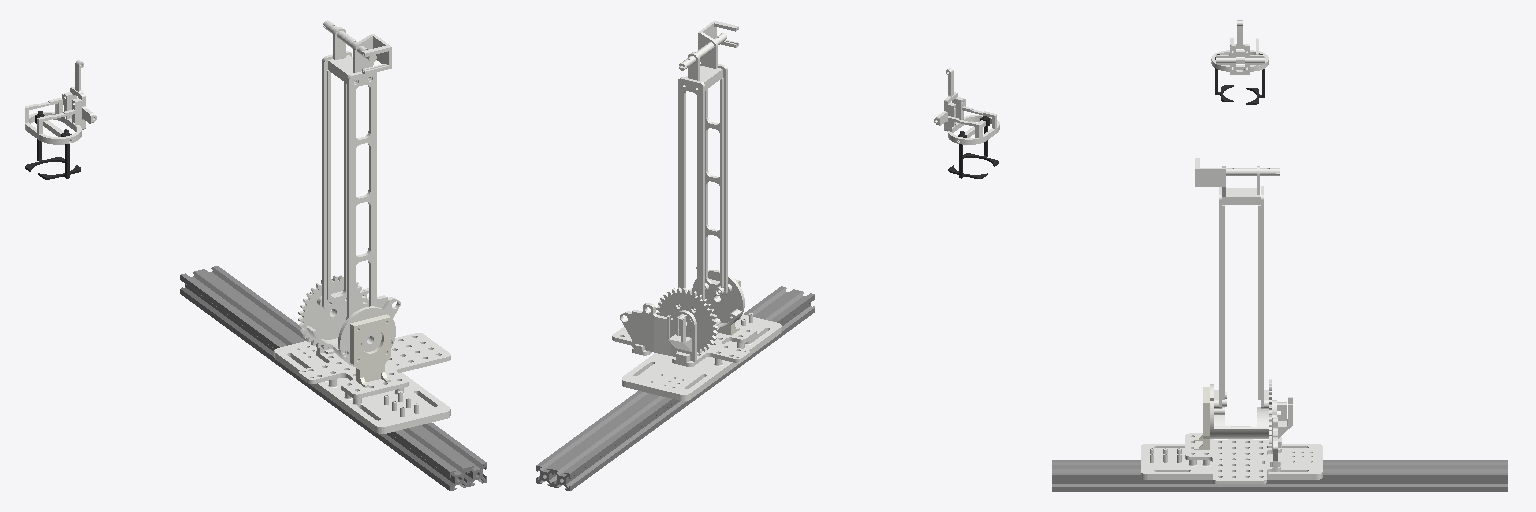
The robot description file, URDF, robot "arm":
<?xml version="1.0" ?>
<!-- =================================================================================== -->
<!-- |    This document was autogenerated by xacro from arm.xacro                      | -->
<!-- |    EDITING THIS FILE BY HAND IS NOT RECOMMENDED                                 | -->
<!-- =================================================================================== -->
<robot name="arm">
  <material name="silver_default">
    <color rgba="0.700 0.700 0.700 1.000"/>
  </material>
  <material name="abs_white">
    <color rgba="0.9647058823529412 0.9647058823529412 0.9529411764705882 1.0"/>
  </material>
  <material name="steel_satin">
    <color rgba="0.6274509803921569 0.6274509803921569 0.6274509803921569 1.0"/>
  </material>
  <material name="acetal_resin_white">
    <color rgba="0.9725490196078431 0.9686274509803922 0.9294117647058824 1.0"/>
  </material>
  <material name="nylon_12_with_formlabs_fuse_1_3d_printer">
    <color rgba="0.24705882352941178 0.24705882352941178 0.24705882352941178 1.0"/>
  </material>
  <transmission name="Slider 2_tran">
    <type>transmission_interface/SimpleTransmission</type>
    <joint name="Slider 2">
      <hardwareInterface>hardware_interface/EffortJointInterface</hardwareInterface>
    </joint>
    <actuator name="Slider 2_actr">
      <hardwareInterface>hardware_interface/EffortJointInterface</hardwareInterface>
      <mechanicalReduction>1</mechanicalReduction>
    </actuator>
  </transmission>
  <transmission name="Revolute 5_tran">
    <type>transmission_interface/SimpleTransmission</type>
    <joint name="Revolute 5">
      <hardwareInterface>hardware_interface/EffortJointInterface</hardwareInterface>
    </joint>
    <actuator name="Revolute 5_actr">
      <hardwareInterface>hardware_interface/EffortJointInterface</hardwareInterface>
      <mechanicalReduction>1</mechanicalReduction>
    </actuator>
  </transmission>
  <transmission name="Revolute 12_tran">
    <type>transmission_interface/SimpleTransmission</type>
    <joint name="Revolute 12">
      <hardwareInterface>hardware_interface/EffortJointInterface</hardwareInterface>
    </joint>
    <actuator name="Revolute 12_actr">
      <hardwareInterface>hardware_interface/EffortJointInterface</hardwareInterface>
      <mechanicalReduction>1</mechanicalReduction>
    </actuator>
  </transmission>
  <transmission name="Revolute 13_tran">
    <type>transmission_interface/SimpleTransmission</type>
    <joint name="Revolute 13">
      <hardwareInterface>hardware_interface/EffortJointInterface</hardwareInterface>
    </joint>
    <actuator name="Revolute 13_actr">
      <hardwareInterface>hardware_interface/EffortJointInterface</hardwareInterface>
      <mechanicalReduction>1</mechanicalReduction>
    </actuator>
  </transmission>
  <transmission name="Slider 18_tran">
    <type>transmission_interface/SimpleTransmission</type>
    <joint name="Slider 18">
      <hardwareInterface>hardware_interface/EffortJointInterface</hardwareInterface>
    </joint>
    <actuator name="Slider 18_actr">
      <hardwareInterface>hardware_interface/EffortJointInterface</hardwareInterface>
      <mechanicalReduction>1</mechanicalReduction>
    </actuator>
  </transmission>
  <transmission name="Slider 19_tran">
    <type>transmission_interface/SimpleTransmission</type>
    <joint name="Slider 19">
      <hardwareInterface>hardware_interface/EffortJointInterface</hardwareInterface>
    </joint>
    <actuator name="Slider 19_actr">
      <hardwareInterface>hardware_interface/EffortJointInterface</hardwareInterface>
      <mechanicalReduction>1</mechanicalReduction>
    </actuator>
  </transmission>
  <link name="base_link">
    <inertial>
      <origin rpy="0 0 0" xyz="-0.009999999999999948 9.575491847487525e-17 -0.08999999999999994"/>
      <mass value="1.4912097514428566"/>
      <inertia ixx="0.031122" ixy="0.0" ixz="0.0" iyy="0.000259" iyz="0.0" izz="0.031271"/>
    </inertial>
    <visual>
      <origin rpy="0 0 0" xyz="0 0 0"/>
      <geometry>
        <mesh filename="../meshes/base_link.stl" scale="0.001 0.001 0.001"/>
      </geometry>
      <material name="steel_satin"/>
    </visual>
    <collision>
      <origin rpy="0 0 0" xyz="0 0 0"/>
      <geometry>
        <mesh filename="../meshes/base_link.stl" scale="0.001 0.001 0.001"/>
      </geometry>
    </collision>
  </link>
  <link name="glid_platta_1">
    <inertial>
      <origin rpy="0 0 0" xyz="-5.468439568776136e-05 -0.05383161524004917 0.0038176877551246158"/>
      <mass value="0.8546275738182918"/>
      <inertia ixx="0.002722" ixy="-6e-06" ixz="1e-06" iyy="0.000445" iyz="6e-06" izz="0.003156"/>
    </inertial>
    <visual>
      <origin rpy="0 0 0" xyz="0.01 0.0005 0.077"/>
      <geometry>
        <mesh filename="../meshes/glid_platta_1.stl" scale="0.001 0.001 0.001"/>
      </geometry>
      <material name="abs_white"/>
    </visual>
    <collision>
      <origin rpy="0 0 0" xyz="0.01 0.0005 0.077"/>
      <geometry>
        <mesh filename="../meshes/glid_platta_1.stl" scale="0.001 0.001 0.001"/>
      </geometry>
    </collision>
  </link>
  <link name="bas_1">
    <inertial>
      <origin rpy="0 0 0" xyz="0.04705931573620517 0.045268301136539645 0.0022661004887333247"/>
      <mass value="0.30456940392755205"/>
      <inertia ixx="0.000197" ixy="-5.5e-05" ixz="0.0" iyy="0.000386" iyz="-0.0" izz="0.000582"/>
    </inertial>
    <visual>
      <origin rpy="0 0 0" xyz="0.04 0.0955 0.061"/>
      <geometry>
        <mesh filename="../meshes/bas_1.stl" scale="0.001 0.001 0.001"/>
      </geometry>
      <material name="abs_white"/>
    </visual>
    <collision>
      <origin rpy="0 0 0" xyz="0.04 0.0955 0.061"/>
      <geometry>
        <mesh filename="../meshes/bas_1.stl" scale="0.001 0.001 0.001"/>
      </geometry>
    </collision>
  </link>
  <link name="gemensam_vagg_1">
    <inertial>
      <origin rpy="0 0 0" xyz="0.030946920895249638 0.0021147724207146537 0.021010163827367916"/>
      <mass value="0.14972234810656923"/>
      <inertia ixx="2.6e-05" ixy="4e-06" ixz="-2e-06" iyy="0.000104" iyz="-1e-06" izz="8.3e-05"/>
    </inertial>
    <visual>
      <origin rpy="0 0 0" xyz="0.025 0.006 0.0565"/>
      <geometry>
        <mesh filename="../meshes/gemensam_vagg_1.stl" scale="0.001 0.001 0.001"/>
      </geometry>
      <material name="abs_white"/>
    </visual>
    <collision>
      <origin rpy="0 0 0" xyz="0.025 0.006 0.0565"/>
      <geometry>
        <mesh filename="../meshes/gemensam_vagg_1.stl" scale="0.001 0.001 0.001"/>
      </geometry>
    </collision>
  </link>
  <link name="botten_snurr_1">
    <inertial>
      <origin rpy="0 0 0" xyz="0.0015732210889561407 -0.03123421175585632 -0.00431527689408236"/>
      <mass value="0.3353218247510541"/>
      <inertia ixx="0.000386" ixy="2e-06" ixz="6e-06" iyy="0.000177" iyz="-5e-06" izz="0.000373"/>
    </inertial>
    <visual>
      <origin rpy="0 0 0" xyz="0.0175 0.0083 0.016"/>
      <geometry>
        <mesh filename="../meshes/botten_snurr_1.stl" scale="0.001 0.001 0.001"/>
      </geometry>
      <material name="abs_white"/>
    </visual>
    <collision>
      <origin rpy="0 0 0" xyz="0.0175 0.0083 0.016"/>
      <geometry>
        <mesh filename="../meshes/botten_snurr_1.stl" scale="0.001 0.001 0.001"/>
      </geometry>
    </collision>
  </link>
  <link name="kortarm_kopia_Mirror__1">
    <inertial>
      <origin rpy="0 0 0" xyz="0.008999999999998776 -0.002527975348214296 0.12374230942748185"/>
      <mass value="0.14674833087457098"/>
      <inertia ixx="0.000901" ixy="0.0" ixz="-0.0" iyy="0.000919" iyz="-0.0" izz="1.9e-05"/>
    </inertial>
    <visual>
      <origin rpy="0 0 0" xyz="0.0265 0.0173 0.001"/>
      <geometry>
        <mesh filename="../meshes/kortarm_kopia_Mirror__1.stl" scale="0.001 0.001 0.001"/>
      </geometry>
      <material name="abs_white"/>
    </visual>
    <collision>
      <origin rpy="0 0 0" xyz="0.0265 0.0173 0.001"/>
      <geometry>
        <mesh filename="../meshes/kortarm_kopia_Mirror__1.stl" scale="0.001 0.001 0.001"/>
      </geometry>
    </collision>
  </link>
  <link name="kortarm_kopia_1">
    <inertial>
      <origin rpy="0 0 0" xyz="-0.008999999999983271 0.0025846658949611606 0.12043864331762873"/>
      <mass value="0.15923511176845098"/>
      <inertia ixx="0.000967" ixy="-0.0" ixz="0.0" iyy="0.000986" iyz="2e-06" izz="2e-05"/>
    </inertial>
    <visual>
      <origin rpy="0 0 0" xyz="0.0085 0.0673 0.001"/>
      <geometry>
        <mesh filename="../meshes/kortarm_kopia_1.stl" scale="0.001 0.001 0.001"/>
      </geometry>
      <material name="abs_white"/>
    </visual>
    <collision>
      <origin rpy="0 0 0" xyz="0.0085 0.0673 0.001"/>
      <geometry>
        <mesh filename="../meshes/kortarm_kopia_1.stl" scale="0.001 0.001 0.001"/>
      </geometry>
    </collision>
  </link>
  <link name="snurr_hallare_stepper_sida_1">
    <inertial>
      <origin rpy="0 0 0" xyz="-0.00752161763889087 -0.0010441466152069923 0.030069945529443327"/>
      <mass value="0.10064962572181504"/>
      <inertia ixx="3.3e-05" ixy="0.0" ixz="-0.0" iyy="4.6e-05" iyz="-0.0" izz="1.4e-05"/>
    </inertial>
    <visual>
      <origin rpy="0 0 0" xyz="0.01 0.08 0.0565"/>
      <geometry>
        <mesh filename="../meshes/snurr_hallare_stepper_sida_1.stl" scale="0.001 0.001 0.001"/>
      </geometry>
      <material name="acetal_resin_white"/>
    </visual>
    <collision>
      <origin rpy="0 0 0" xyz="0.01 0.08 0.0565"/>
      <geometry>
        <mesh filename="../meshes/snurr_hallare_stepper_sida_1.stl" scale="0.001 0.001 0.001"/>
      </geometry>
    </collision>
  </link>
  <link name="led_1">
    <inertial>
      <origin rpy="0 0 0" xyz="0.01030928189216322 0.011669647371074766 0.010617976474143143"/>
      <mass value="0.12568698050315202"/>
      <inertia ixx="7.4e-05" ixy="8e-06" ixz="-6e-06" iyy="3.2e-05" iyz="2.1e-05" izz="5.7e-05"/>
    </inertial>
    <visual>
      <origin rpy="0 0 0" xyz="0.025 0.0633 -0.244"/>
      <geometry>
        <mesh filename="../meshes/led_1.stl" scale="0.001 0.001 0.001"/>
      </geometry>
      <material name="abs_white"/>
    </visual>
    <collision>
      <origin rpy="0 0 0" xyz="0.025 0.0633 -0.244"/>
      <geometry>
        <mesh filename="../meshes/led_1.stl" scale="0.001 0.001 0.001"/>
      </geometry>
    </collision>
  </link>
  <link name="mount_1">
    <inertial>
      <origin rpy="0 0 0" xyz="-0.0015281452941265372 -0.027111778475479423 0.0047367407334450995"/>
      <mass value="0.03244923596791342"/>
      <inertia ixx="1.2e-05" ixy="0.0" ixz="-0.0" iyy="7e-06" iyz="-0.0" izz="6e-06"/>
    </inertial>
    <visual>
      <origin rpy="0 0 0" xyz="0.3074 0.0167 -0.273879"/>
      <geometry>
        <mesh filename="../meshes/mount_1.stl" scale="0.001 0.001 0.001"/>
      </geometry>
      <material name="abs_white"/>
    </visual>
    <collision>
      <origin rpy="0 0 0" xyz="0.3074 0.0167 -0.273879"/>
      <geometry>
        <mesh filename="../meshes/mount_1.stl" scale="0.001 0.001 0.001"/>
      </geometry>
    </collision>
  </link>
  <link name="led_axel_1">
    <inertial>
      <origin rpy="0 0 0" xyz="3.9681229292015674e-08 -0.017636071803263736 5.399675367945278e-08"/>
      <mass value="0.03211404074503917"/>
      <inertia ixx="1.9e-05" ixy="0.0" ixz="-0.0" iyy="0.0" iyz="-0.0" izz="1.9e-05"/>
    </inertial>
    <visual>
      <origin rpy="0 0 0" xyz="0.0175 0.0257 -0.274"/>
      <geometry>
        <mesh filename="../meshes/led_axel_1.stl" scale="0.001 0.001 0.001"/>
      </geometry>
      <material name="abs_white"/>
    </visual>
    <collision>
      <origin rpy="0 0 0" xyz="0.0175 0.0257 -0.274"/>
      <geometry>
        <mesh filename="../meshes/led_axel_1.stl" scale="0.001 0.001 0.001"/>
      </geometry>
    </collision>
  </link>
  <link name="lang_arm_1">
    <inertial>
      <origin rpy="0 0 0" xyz="-0.11940862738379322 -0.0002318340638047412 -0.003829064875622401"/>
      <mass value="0.16976147982888834"/>
      <inertia ixx="1.5e-05" ixy="-1.3e-05" ixz="-0.0" iyy="0.001196" iyz="-0.0" izz="0.001184"/>
    </inertial>
    <visual>
      <origin rpy="0 0 0" xyz="0.019 0.0127 -0.277708"/>
      <geometry>
        <mesh filename="../meshes/lang_arm_1.stl" scale="0.001 0.001 0.001"/>
      </geometry>
      <material name="abs_white"/>
    </visual>
    <collision>
      <origin rpy="0 0 0" xyz="0.019 0.0127 -0.277708"/>
      <geometry>
        <mesh filename="../meshes/lang_arm_1.stl" scale="0.001 0.001 0.001"/>
      </geometry>
    </collision>
  </link>
  <link name="lang_arm_Mirror__1">
    <inertial>
      <origin rpy="0 0 0" xyz="-0.11940862738379333 0.00023183404890350645 -0.003829064875622401"/>
      <mass value="0.1697614798288884"/>
      <inertia ixx="1.5e-05" ixy="1.3e-05" ixz="-0.0" iyy="0.001196" iyz="0.0" izz="0.001184"/>
    </inertial>
    <visual>
      <origin rpy="0 0 0" xyz="0.019 0.0727 -0.277708"/>
      <geometry>
        <mesh filename="../meshes/lang_arm_Mirror__1.stl" scale="0.001 0.001 0.001"/>
      </geometry>
      <material name="abs_white"/>
    </visual>
    <collision>
      <origin rpy="0 0 0" xyz="0.019 0.0727 -0.277708"/>
      <geometry>
        <mesh filename="../meshes/lang_arm_Mirror__1.stl" scale="0.001 0.001 0.001"/>
      </geometry>
    </collision>
  </link>
  <link name="ram_1">
    <inertial>
      <origin rpy="0 0 0" xyz="-0.019202424746526392 0.009473523246560166 -0.01755497164191755"/>
      <mass value="0.05700474756317414"/>
      <inertia ixx="1.9e-05" ixy="0.0" ixz="-2e-06" iyy="1.9e-05" iyz="-0.0" izz="3.1e-05"/>
    </inertial>
    <visual>
      <origin rpy="0 0 0" xyz="0.3114 0.0517 -0.283879"/>
      <geometry>
        <mesh filename="../meshes/ram_1.stl" scale="0.001 0.001 0.001"/>
      </geometry>
      <material name="abs_white"/>
    </visual>
    <collision>
      <origin rpy="0 0 0" xyz="0.3114 0.0517 -0.283879"/>
      <geometry>
        <mesh filename="../meshes/ram_1.stl" scale="0.001 0.001 0.001"/>
      </geometry>
    </collision>
  </link>
  <link name="Component18_1">
    <inertial>
      <origin rpy="0 0 0" xyz="-0.3064939998665962 -0.04140577938889977 0.25437893512310367"/>
      <mass value="0.009717848592679035"/>
      <inertia ixx="2e-06" ixy="-0.0" ixz="0.0" iyy="0.0" iyz="-0.0" izz="2e-06"/>
    </inertial>
    <visual>
      <origin rpy="0 0 0" xyz="0.029306 0.0026 -0.005"/>
      <geometry>
        <mesh filename="../meshes/Component18_1.stl" scale="0.001 0.001 0.001"/>
      </geometry>
      <material name="abs_white"/>
    </visual>
    <collision>
      <origin rpy="0 0 0" xyz="0.029306 0.0026 -0.005"/>
      <geometry>
        <mesh filename="../meshes/Component18_1.stl" scale="0.001 0.001 0.001"/>
      </geometry>
    </collision>
  </link>
  <link name="hake_1">
    <inertial>
      <origin rpy="0 0 0" xyz="-0.0026499780323618882 -0.007012922584167825 -0.026625758918819686"/>
      <mass value="0.008717252045640082"/>
      <inertia ixx="3e-06" ixy="-0.0" ixz="-0.0" iyy="4e-06" iyz="-0.0" izz="1e-06"/>
    </inertial>
    <visual>
      <origin rpy="0 0 0" xyz="0.3333 0.015006 -0.261879"/>
      <geometry>
        <mesh filename="../meshes/hake_1.stl" scale="0.001 0.001 0.001"/>
      </geometry>
      <material name="nylon_12_with_formlabs_fuse_1_3d_printer"/>
    </visual>
    <collision>
      <origin rpy="0 0 0" xyz="0.3333 0.015006 -0.261879"/>
      <geometry>
        <mesh filename="../meshes/hake_1.stl" scale="0.001 0.001 0.001"/>
      </geometry>
    </collision>
  </link>
  <link name="hake2_1">
    <inertial>
      <origin rpy="0 0 0" xyz="0.002649979198926289 0.0076133663675697905 -0.024953181253041634"/>
      <mass value="0.008505309594827988"/>
      <inertia ixx="3e-06" ixy="-0.0" ixz="0.0" iyy="3e-06" iyz="0.0" izz="1e-06"/>
    </inertial>
    <visual>
      <origin rpy="0 0 0" xyz="0.3383 0.073006 -0.261879"/>
      <geometry>
        <mesh filename="../meshes/hake2_1.stl" scale="0.001 0.001 0.001"/>
      </geometry>
      <material name="nylon_12_with_formlabs_fuse_1_3d_printer"/>
    </visual>
    <collision>
      <origin rpy="0 0 0" xyz="0.3383 0.073006 -0.261879"/>
      <geometry>
        <mesh filename="../meshes/hake2_1.stl" scale="0.001 0.001 0.001"/>
      </geometry>
    </collision>
  </link>
  <joint name="Slider 2" type="prismatic">
    <origin rpy="0 0 0" xyz="-0.01 -0.0005 -0.077"/>
    <parent link="base_link"/>
    <child link="glid_platta_1"/>
    <axis xyz="0.0 1.0 0.0"/>
    <limit effort="100" lower="0.0" upper="0.0" velocity="100"/>
  </joint>
  <joint name="Rigid 3" type="fixed">
    <origin rpy="0 0 0" xyz="-0.03 -0.095 0.016"/>
    <parent link="glid_platta_1"/>
    <child link="bas_1"/>
  </joint>
  <joint name="Rigid 4" type="fixed">
    <origin rpy="0 0 0" xyz="0.015 0.0895 0.0045"/>
    <parent link="bas_1"/>
    <child link="gemensam_vagg_1"/>
  </joint>
  <joint name="Revolute 5" type="continuous">
    <origin rpy="0 0 0" xyz="0.0075 -0.0023 0.0405"/>
    <parent link="gemensam_vagg_1"/>
    <child link="botten_snurr_1"/>
    <axis xyz="0.0 1.0 0.0"/>
  </joint>
  <joint name="Rigid 6" type="fixed">
    <origin rpy="0 0 0" xyz="-0.009 -0.009 0.015"/>
    <parent link="botten_snurr_1"/>
    <child link="kortarm_kopia_Mirror__1"/>
  </joint>
  <joint name="Rigid 7" type="fixed">
    <origin rpy="0 0 0" xyz="0.009 -0.059 0.015"/>
    <parent link="botten_snurr_1"/>
    <child link="kortarm_kopia_1"/>
  </joint>
  <joint name="Rigid 8" type="fixed">
    <origin rpy="0 0 0" xyz="0.03 0.0155 0.0045"/>
    <parent link="bas_1"/>
    <child link="snurr_hallare_stepper_sida_1"/>
  </joint>
  <joint name="Rigid 9" type="fixed">
    <origin rpy="0 0 0" xyz="-0.0165 0.004 0.245"/>
    <parent link="kortarm_kopia_1"/>
    <child link="led_1"/>
  </joint>
  <joint name="Revolute 12" type="continuous">
    <origin rpy="0 0 0" xyz="-0.2884 -0.004 -0.003829"/>
    <parent link="lang_arm_1"/>
    <child link="mount_1"/>
    <axis xyz="-0.0 -1.0 0.0"/>
  </joint>
  <joint name="Revolute 13" type="continuous">
    <origin rpy="0 0 0" xyz="0.0075 0.0376 0.03"/>
    <parent link="led_1"/>
    <child link="led_axel_1"/>
    <axis xyz="0.0 1.0 0.0"/>
  </joint>
  <joint name="Rigid 14" type="fixed">
    <origin rpy="0 0 0" xyz="-0.0015 0.013 0.003708"/>
    <parent link="led_axel_1"/>
    <child link="lang_arm_1"/>
  </joint>
  <joint name="Rigid 15" type="fixed">
    <origin rpy="0 0 0" xyz="-0.0015 -0.047 0.003708"/>
    <parent link="led_axel_1"/>
    <child link="lang_arm_Mirror__1"/>
  </joint>
  <joint name="Rigid 16" type="fixed">
    <origin rpy="0 0 0" xyz="-0.004 -0.035 0.01"/>
    <parent link="mount_1"/>
    <child link="ram_1"/>
  </joint>
  <joint name="Rigid 17" type="fixed">
    <origin rpy="0 0 0" xyz="0.282094 0.0491 -0.278879"/>
    <parent link="ram_1"/>
    <child link="Component18_1"/>
  </joint>
  <joint name="Slider 18" type="prismatic">
    <origin rpy="0 0 0" xyz="-0.303994 -0.012406 0.256879"/>
    <parent link="Component18_1"/>
    <child link="hake_1"/>
    <axis xyz="-0.0 1.0 0.0"/>
    <limit effort="100" lower="0.0" upper="0.0" velocity="100"/>
  </joint>
  <joint name="Slider 19" type="prismatic">
    <origin rpy="0 0 0" xyz="-0.308994 -0.070406 0.256879"/>
    <parent link="Component18_1"/>
    <child link="hake2_1"/>
    <axis xyz="0.0 -1.0 -0.0"/>
    <limit effort="100" lower="0.0" upper="0.0" velocity="100"/>
  </joint>
</robot>

--- What the picture shows (computed from the rendered views, not written in the file) ---
The picture shows the robot from 3 angles, left to right: view 1: azimuth 30°, elevation 25°; view 2: azimuth 150°, elevation 25°; view 3: azimuth 270°, elevation 25°; orthographic projection.
Model arm with 17 links and 16 joints (3 continuous, 3 prismatic, 10 fixed), rooted at base_link, posed all joints at 0.
Visible links, largest first — view 1: base_link, glid_platta_1, kortarm_kopia_1, bas_1, botten_snurr_1, kortarm_kopia_Mirror__1, snurr_hallare_stepper_sida_1, led_1, ram_1, mount_1; view 2: base_link, glid_platta_1, kortarm_kopia_Mirror__1, botten_snurr_1, kortarm_kopia_1, gemensam_vagg_1, bas_1, led_1, ram_1; view 3: base_link, glid_platta_1, bas_1, botten_snurr_1, led_1, kortarm_kopia_1, kortarm_kopia_Mirror__1, mount_1, gemensam_vagg_1, ram_1.
Link boxes in pixels (left/top/right/bottom): base_link: left=180, top=266, right=486, bottom=490; glid_platta_1: left=274, top=341, right=450, bottom=433; kortarm_kopia_1: left=346, top=71, right=376, bottom=319; bas_1: left=299, top=333, right=450, bottom=398; botten_snurr_1: left=298, top=275, right=395, bottom=366; kortarm_kopia_Mirror__1: left=322, top=51, right=351, bottom=309; snurr_hallare_stepper_sida_1: left=350, top=314, right=390, bottom=387; led_1: left=328, top=27, right=391, bottom=83; ram_1: left=25, top=92, right=81, bottom=144; mount_1: left=62, top=60, right=96, bottom=129; base_link: left=536, top=286, right=814, bottom=490; glid_platta_1: left=622, top=313, right=781, bottom=400; kortarm_kopia_Mirror__1: left=678, top=77, right=704, bottom=299; botten_snurr_1: left=656, top=267, right=744, bottom=353; kortarm_kopia_1: left=700, top=64, right=727, bottom=295; gemensam_vagg_1: left=620, top=303, right=696, bottom=362; bas_1: left=612, top=324, right=756, bottom=366; led_1: left=685, top=21, right=738, bottom=90; ram_1: left=948, top=97, right=999, bottom=144; base_link: left=1052, top=460, right=1507, bottom=491; glid_platta_1: left=1141, top=444, right=1322, bottom=479; bas_1: left=1185, top=426, right=1281, bottom=483; botten_snurr_1: left=1210, top=379, right=1286, bottom=443; led_1: left=1195, top=158, right=1259, bottom=204; kortarm_kopia_1: left=1219, top=187, right=1226, bottom=408; kortarm_kopia_Mirror__1: left=1258, top=186, right=1263, bottom=408; mount_1: left=1216, top=20, right=1264, bottom=74; gemensam_vagg_1: left=1267, top=397, right=1292, bottom=467; ram_1: left=1211, top=38, right=1268, bottom=71.
Size in the robot's own frame: 0.4324 by 0.5 by 0.4219 metres.
Meshes: 17 distinct files referenced, 15 mesh visuals loaded (15 binary STL); not drawn: 2 (reference not matched to a file when rendering).
